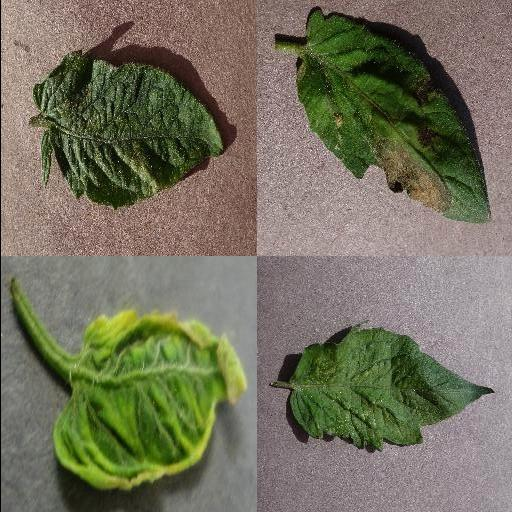Late Blight: (293, 7, 491, 225)
Spider Mites: (30, 50, 224, 209), (287, 326, 495, 452)
Yellow Leaf Curl Virus: (52, 307, 248, 491)
